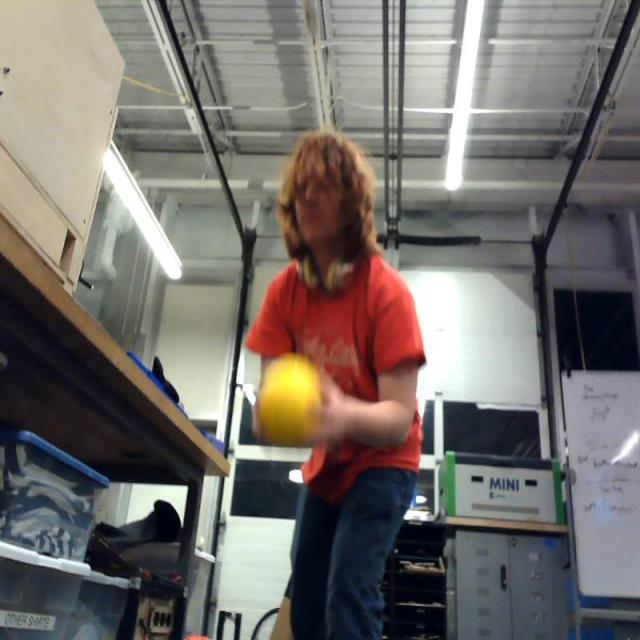Fuel: (257, 362, 323, 444)
